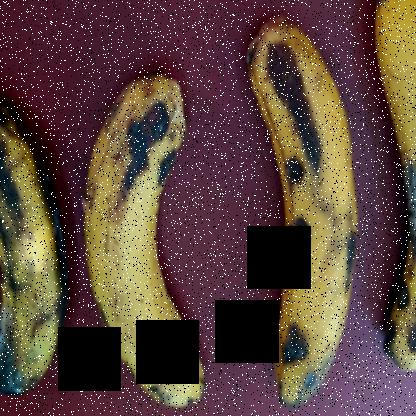overripe: (76, 53, 220, 415), (236, 6, 358, 398), (375, 0, 415, 380)
rotten: (0, 75, 93, 410), (393, 131, 415, 293)
